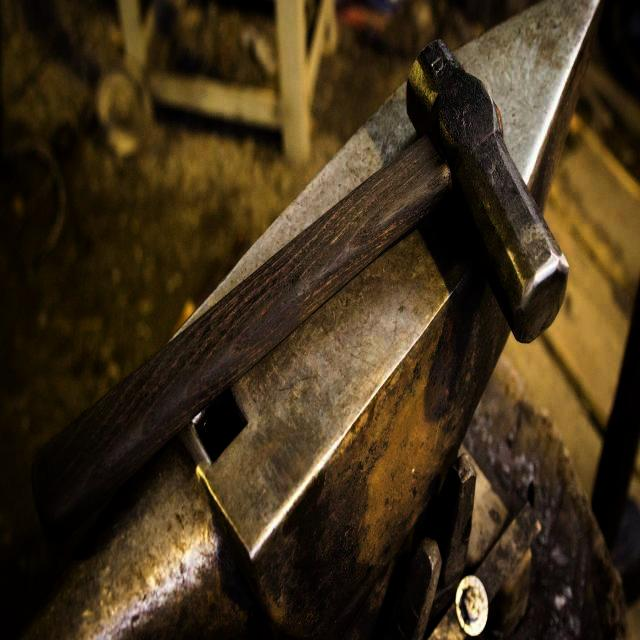hammer: (28, 25, 572, 551)
